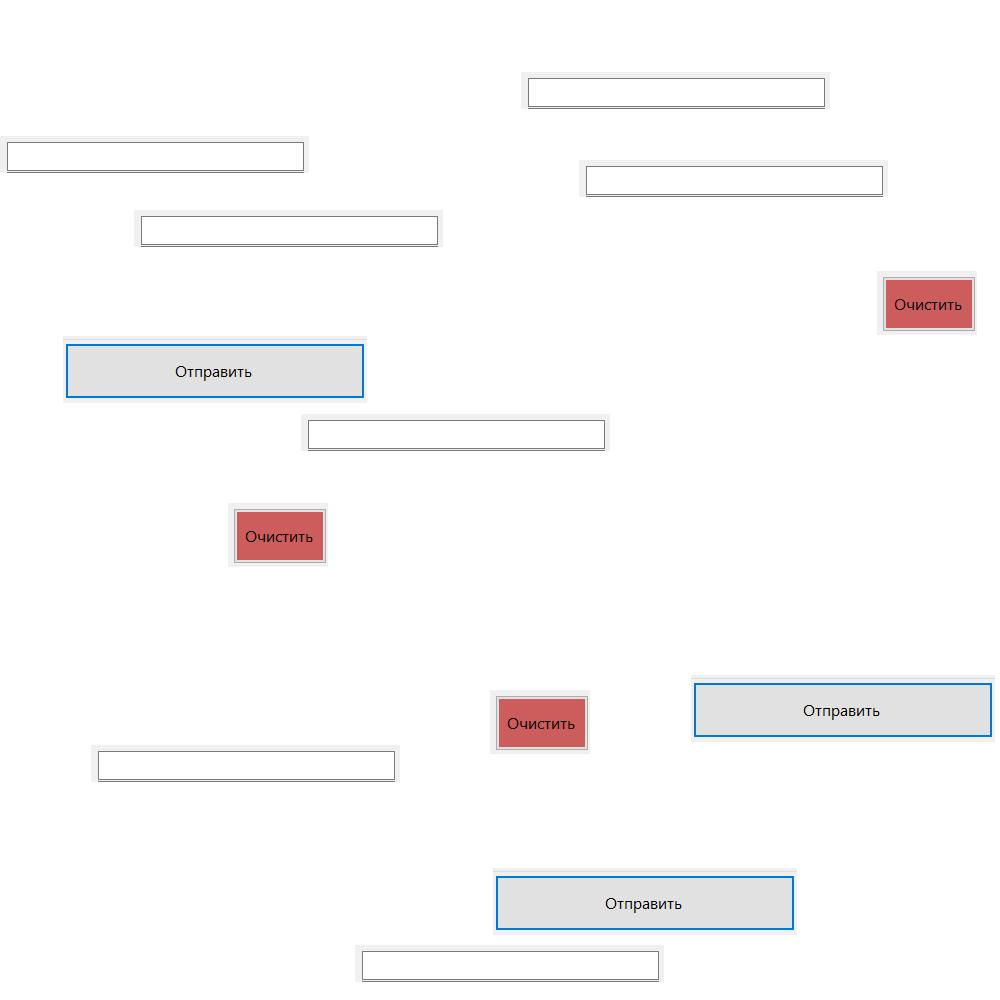Button: (493, 868, 797, 935), (691, 675, 995, 742), (63, 336, 367, 403), (490, 690, 590, 754), (228, 503, 328, 567), (877, 271, 977, 335)
EditText-: (301, 414, 610, 451), (355, 945, 664, 982), (0, 136, 309, 173), (91, 745, 400, 782), (134, 210, 443, 247), (521, 72, 830, 109), (579, 160, 888, 197)
